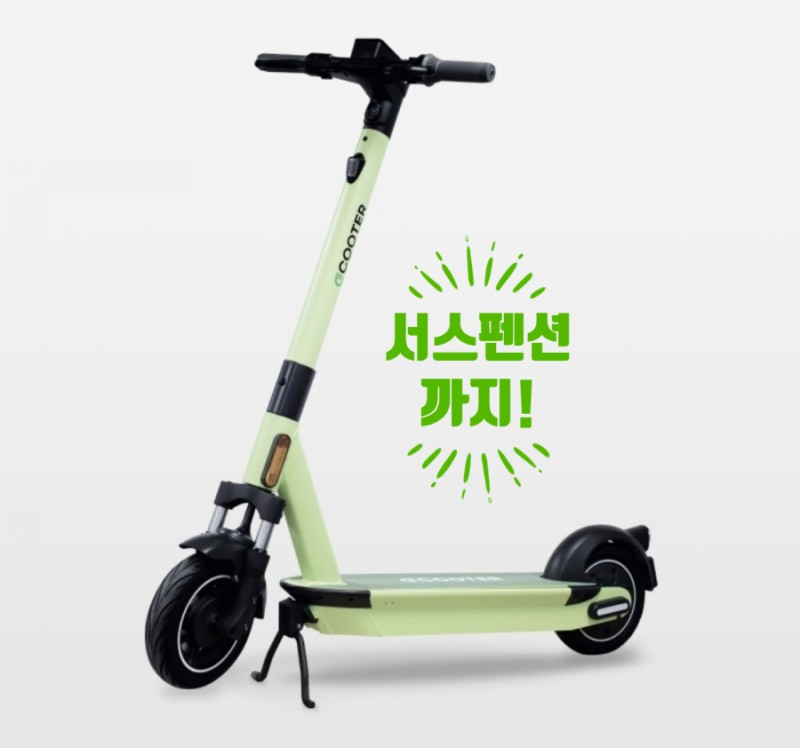kick_body: (327, 572, 554, 632)
kick_handler: (254, 39, 495, 128)
kick_neck: (248, 142, 382, 480)
kick_wheel: (146, 550, 254, 691), (555, 525, 655, 652)
